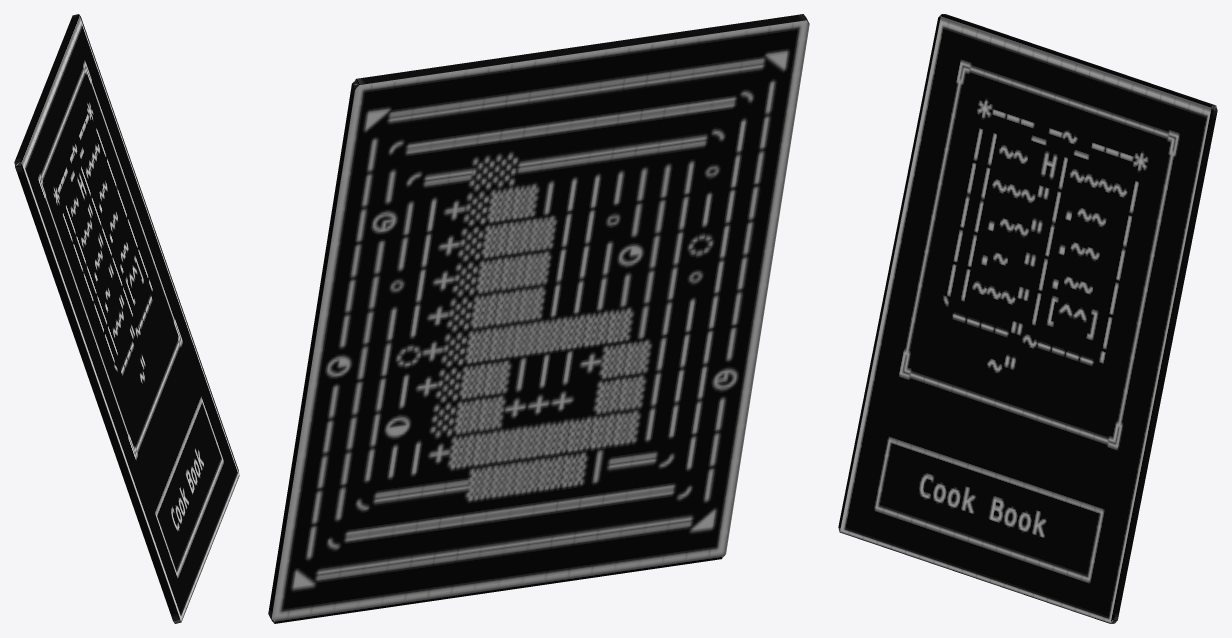
Rendered from ASCII_cookbook.glb.
3 views of the same model, side by side, from view 1: azimuth 30°, elevation 25°; view 2: azimuth 150°, elevation 25°; view 3: azimuth 270°, elevation 25° (orthographic). The views are drawn at different scales.
Visible parts, largest first — view 1: Cube; view 2: Cube; view 3: Cube.
Boxes of the visible parts, left/top/right/bottom form: Cube: left=14, top=14, right=239, bottom=623; Cube: left=268, top=14, right=809, bottom=623; Cube: left=838, top=14, right=1217, bottom=623.
Bounding box in the file's own units: 2.03 × 2.89 × 2.12.
1 material, 1 textured.
